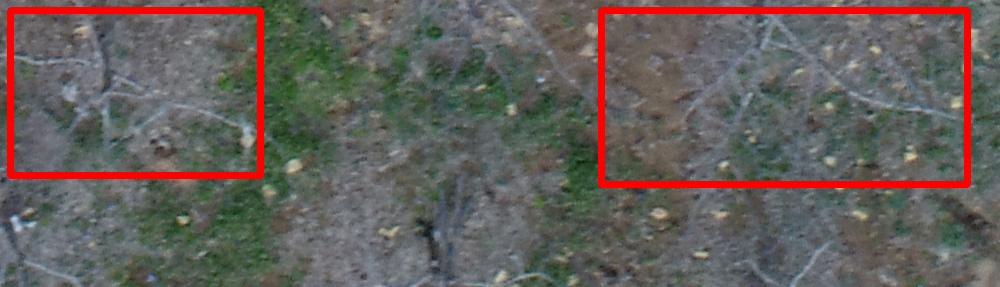apple: (601, 10, 967, 184), (10, 10, 260, 175)
